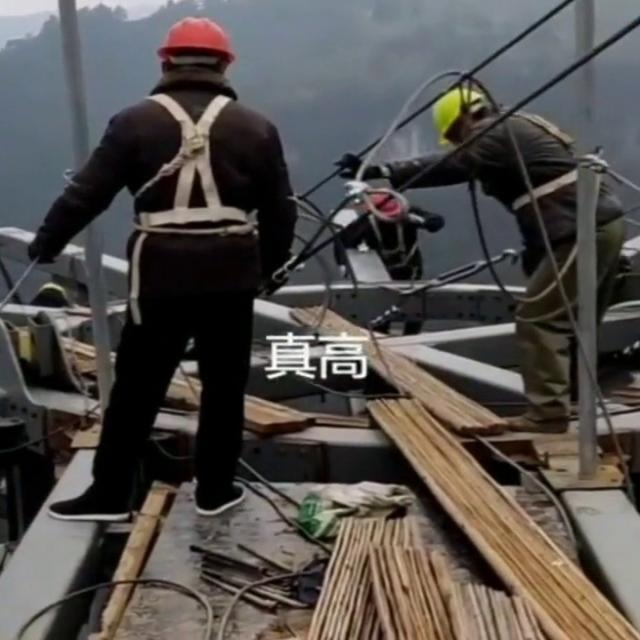Arnes_seguridad: (127, 85, 263, 254), (473, 101, 619, 217)
